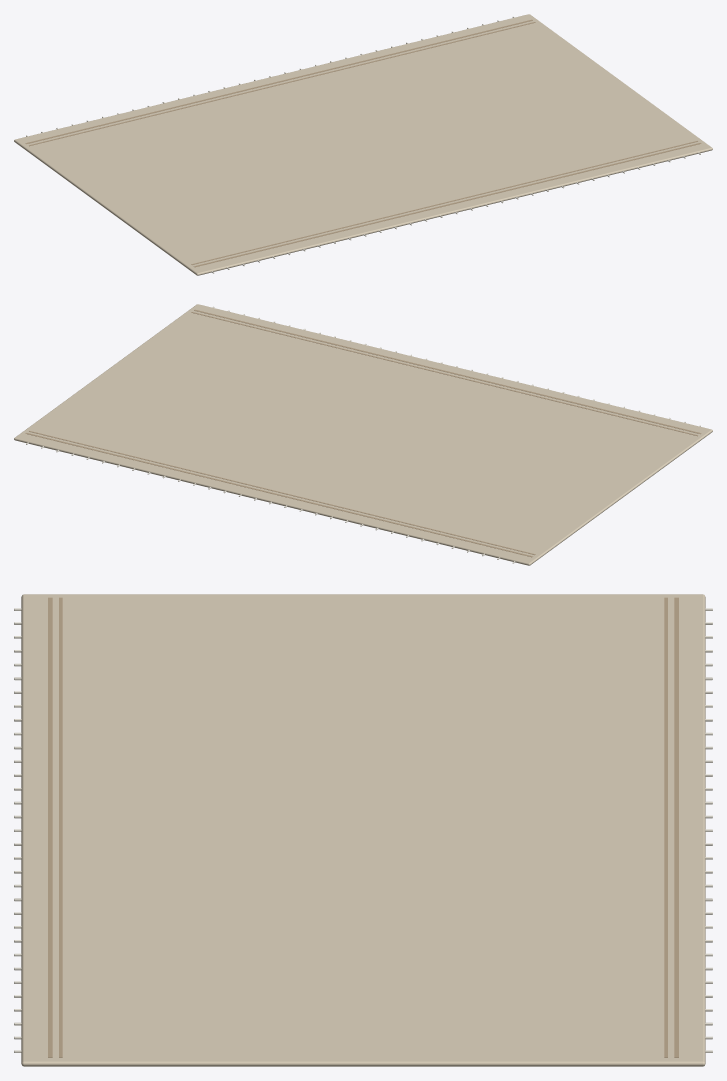
Rendered from rug.glb.
The picture shows the model from 3 angles, top to bottom: view 1: azimuth 30°, elevation 25°; view 2: azimuth 150°, elevation 25°; view 3: azimuth 270°, elevation 25°; orthographic projection. The views are drawn at different scales.
Parts seen in each view (by area): view 1: studio/linen, studio/sand; view 2: studio/linen, studio/sand; view 3: studio/linen, studio/sand, studio/cream.
Boxes of the visible parts, x1,y1,x2,y2 form: studio/linen: [14, 14, 712, 275]; studio/sand: [25, 19, 701, 267]; studio/linen: [14, 304, 712, 565]; studio/sand: [25, 309, 701, 557]; studio/linen: [21, 594, 705, 1066]; studio/sand: [48, 597, 678, 1057]; studio/cream: [14, 608, 712, 1052].
Size of the model in its own units: 3.65 by 0.0195 by 2.3.
